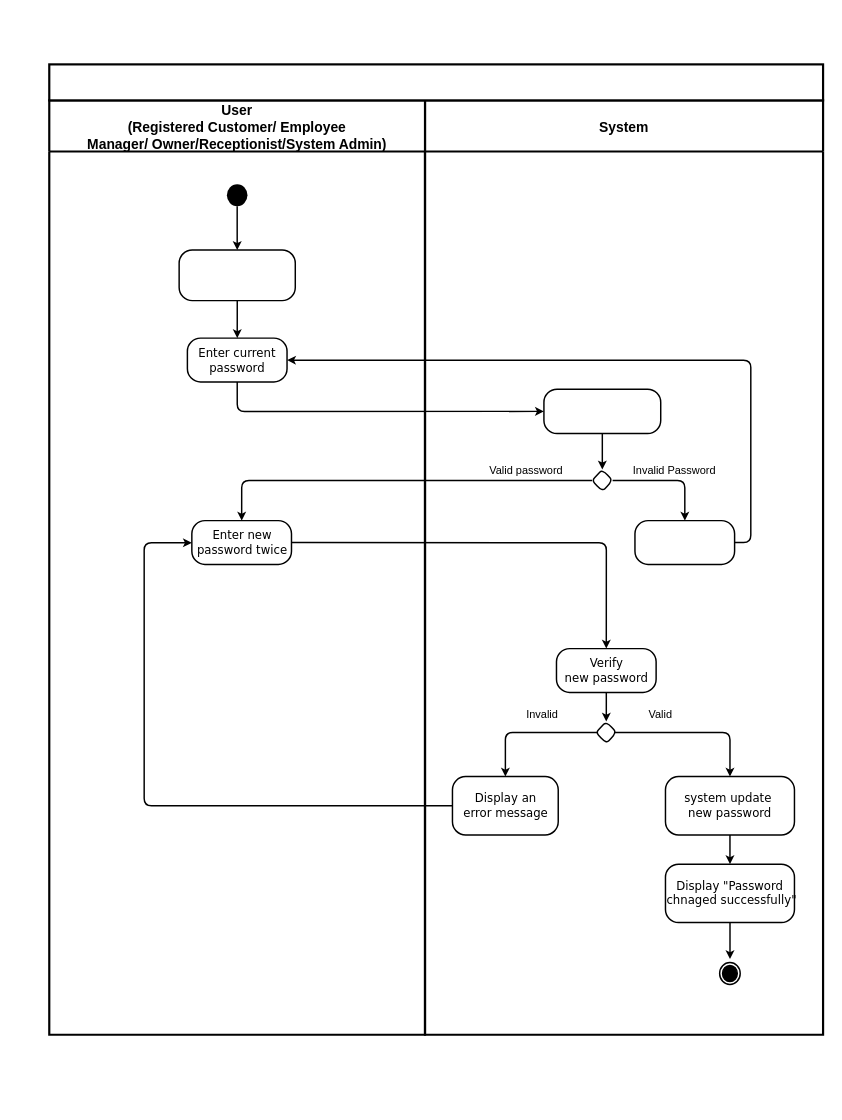
Some shapes in this 842 by 1120 pixel diagram are drawn without their labels. Each missing label, with the centre of its shape:
Change password: (436,82)
Display"Invalid password": (684,542)
Select "Change Password" option: (237,275)
Verify current password: (602,411)
